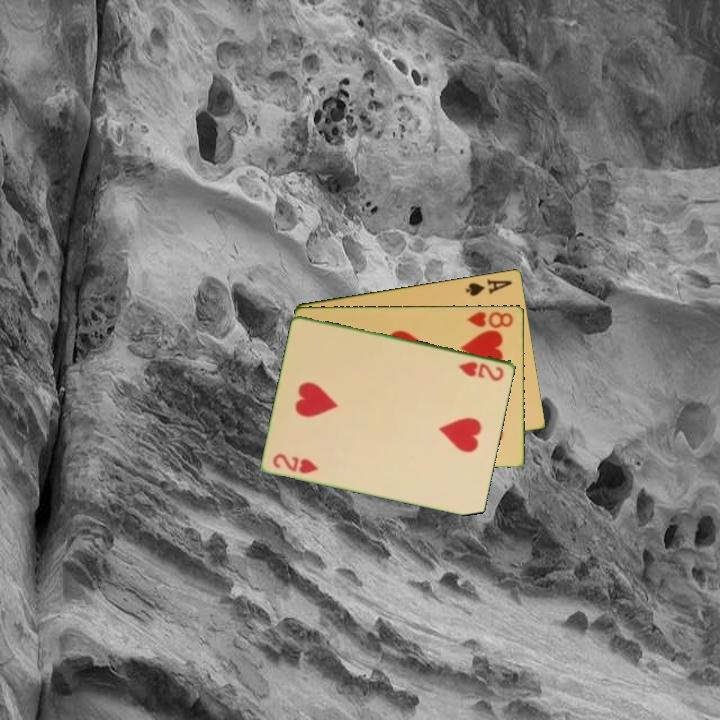2h: (269, 450, 322, 476), (455, 358, 507, 384)
8h: (463, 308, 516, 331)
As: (462, 275, 515, 299)
